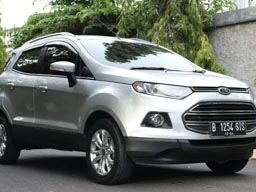plat: (210, 120, 247, 135)
